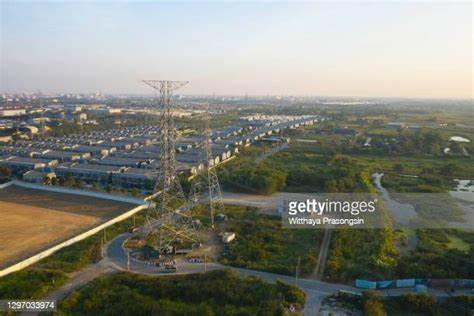power_tower: (136, 76, 200, 259)
